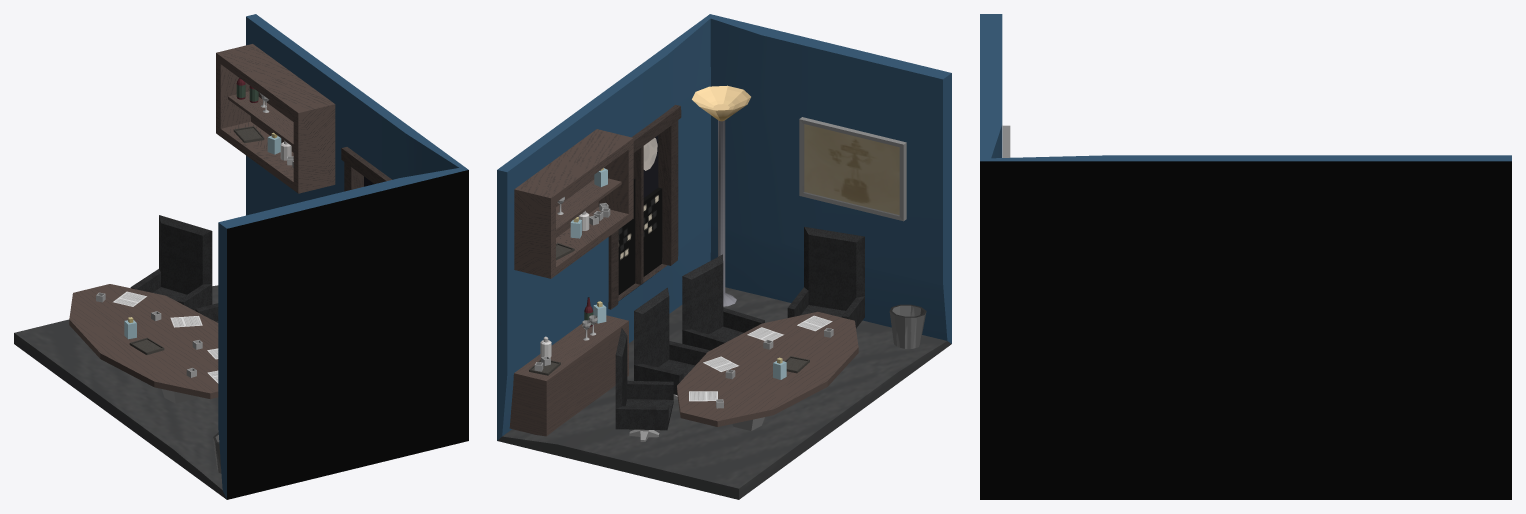
Rendered from SM_OfficeScene.fbx.
3 views of the same model, side by side, from view 1: azimuth 30°, elevation 25°; view 2: azimuth 150°, elevation 25°; view 3: azimuth 270°, elevation 25° (orthographic). The views are drawn at different scales.
Parts seen in each view (by area): view 1: polySurface20, polySurface10, polySurface1, pCube35, polySurface19; view 2: polySurface20, polySurface1, polySurface10, polySurface19, pCube39, polySurface12, pCube42, pCube41, pCube40, pCube35, pCylinder2, pCylinder1; view 3: polySurface20.
Part boxes in pixels (x1=…): polySurface20: x1=14, y1=14, x2=468, y2=499; polySurface10: x1=216, y1=44, x2=335, y2=193; polySurface1: x1=69, y1=284, x2=218, y2=399; pCube35: x1=130, y1=215, x2=212, y2=310; polySurface19: x1=341, y1=147, x2=391, y2=191; polySurface20: x1=497, y1=14, x2=951, y2=499; polySurface1: x1=677, y1=311, x2=858, y2=426; polySurface10: x1=514, y1=129, x2=633, y2=278; polySurface19: x1=608, y1=104, x2=681, y2=309; pCube39: x1=799, y1=117, x2=906, y2=221; polySurface12: x1=509, y1=315, x2=628, y2=436; pCube42: x1=787, y1=226, x2=864, y2=328; pCube41: x1=682, y1=254, x2=764, y2=350; pCube40: x1=634, y1=287, x2=710, y2=394; pCube35: x1=615, y1=328, x2=673, y2=430; pCylinder2: x1=692, y1=85, x2=750, y2=306; pCylinder1: x1=889, y1=304, x2=926, y2=348; polySurface20: x1=980, y1=14, x2=1511, y2=499.
Size of the model in its own units: 1.08 by 1.15 by 1.64.
